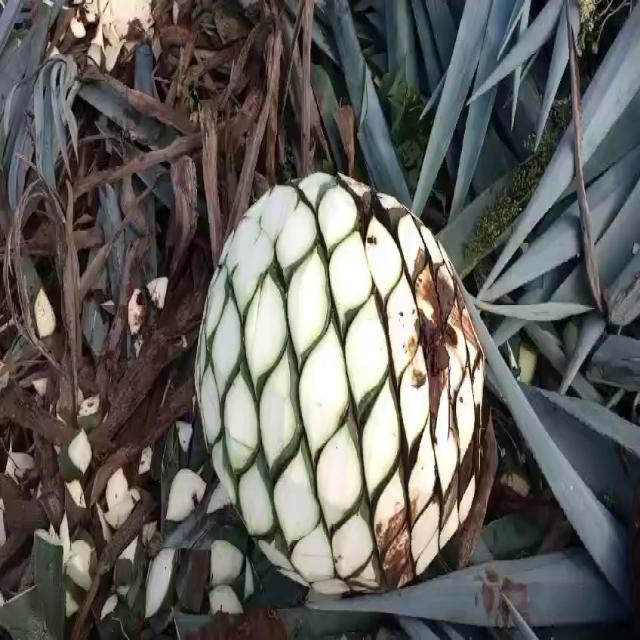agave: (188, 152, 504, 574)
